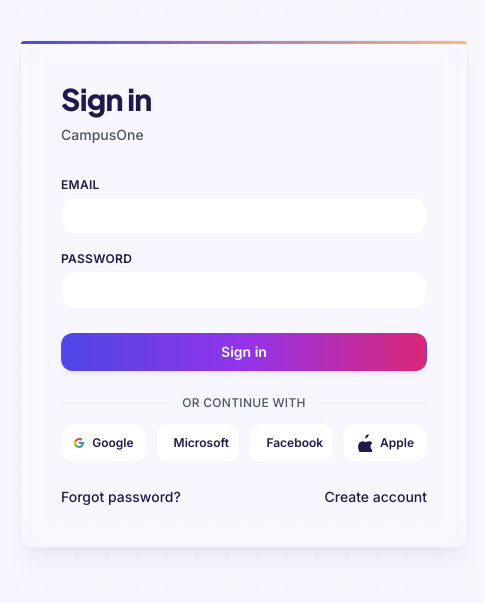
Scenario: LoginPage › shows validation errors instead of submitting when fields are empty
The image size is (485, 603).
Click the button "Sign in" at [244, 352], box [61, 333, 427, 371]
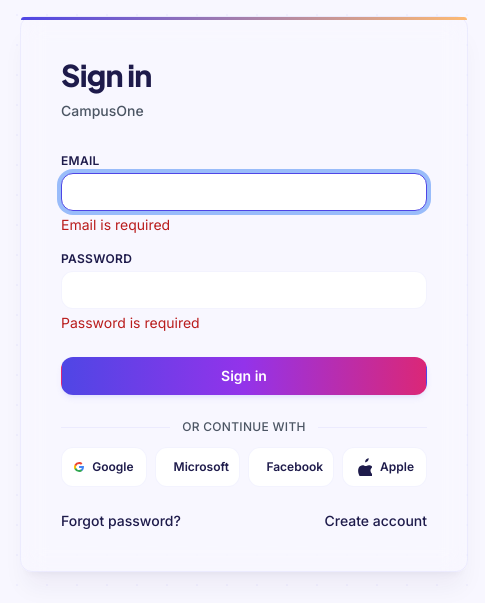
expect the text "Email is required" is shown: met, box [61, 216, 170, 233]
expect the text "Password is required" is shown: met, box [61, 314, 200, 331]
